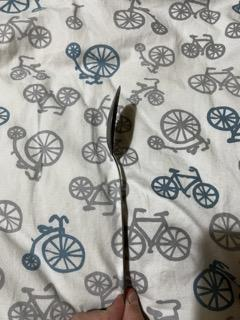spoon: (103, 85, 132, 303)
